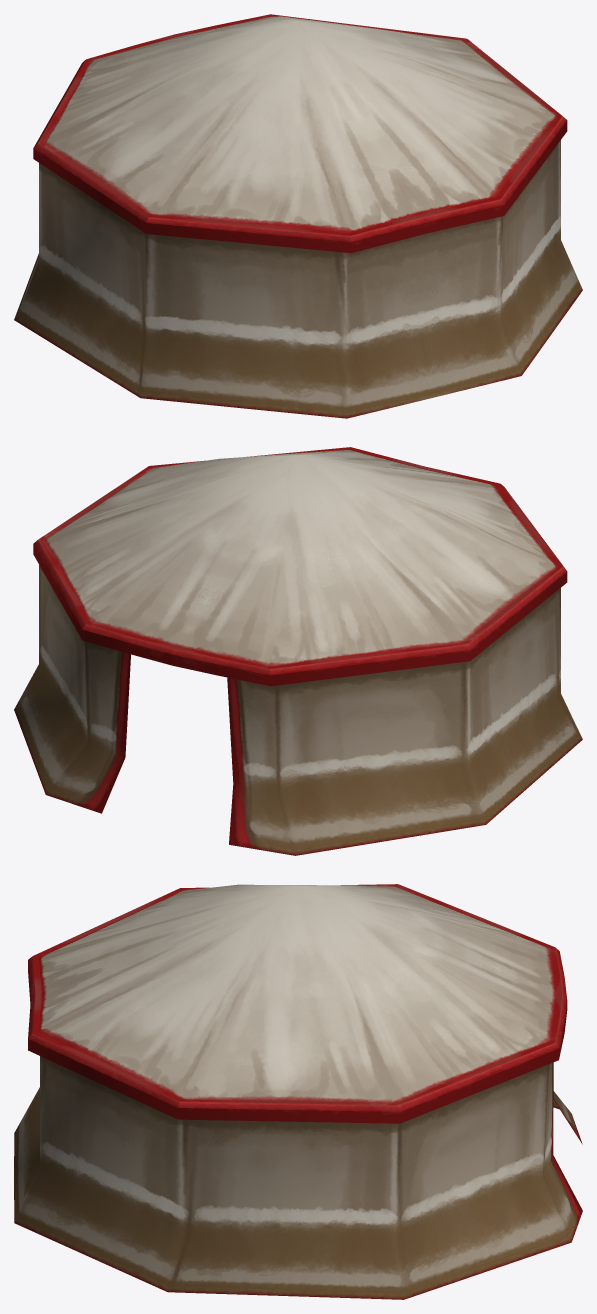
The model's file is building_School.FBX.
3 views of the same model, one above another, from view 1: azimuth 30°, elevation 25°; view 2: azimuth 150°, elevation 25°; view 3: azimuth 270°, elevation 25° (orthographic). The views are drawn at different scales.
Parts seen in each view (by area): view 1: env_house_Tent2; view 2: env_house_Tent2; view 3: env_house_Tent2.
Boxes of the visible parts, box(x1,y1,x2,y2) form: env_house_Tent2: box(14, 14, 582, 418); env_house_Tent2: box(14, 447, 582, 855); env_house_Tent2: box(14, 884, 582, 1299).
Size of the model in its own units: 40.6 by 40.09 by 22.7.
1 material, 1 textured.
